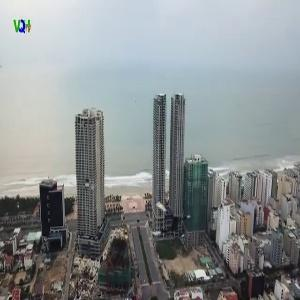drone: (148, 200, 192, 244)
